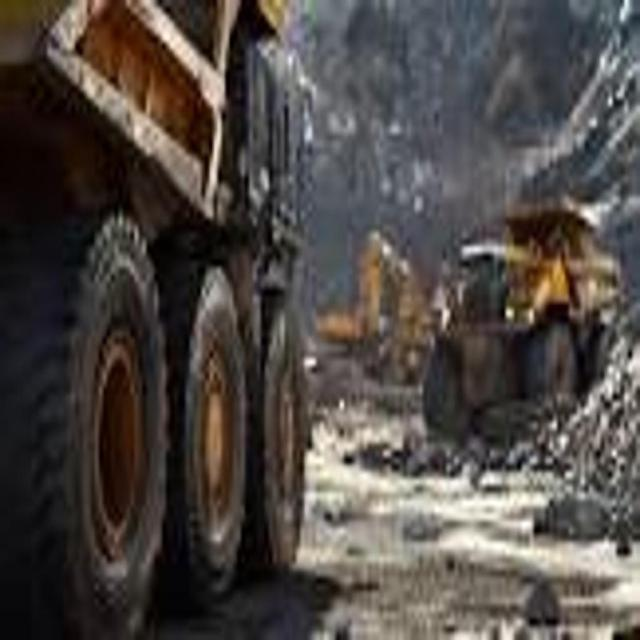dump_truck: (0, 0, 336, 625)
